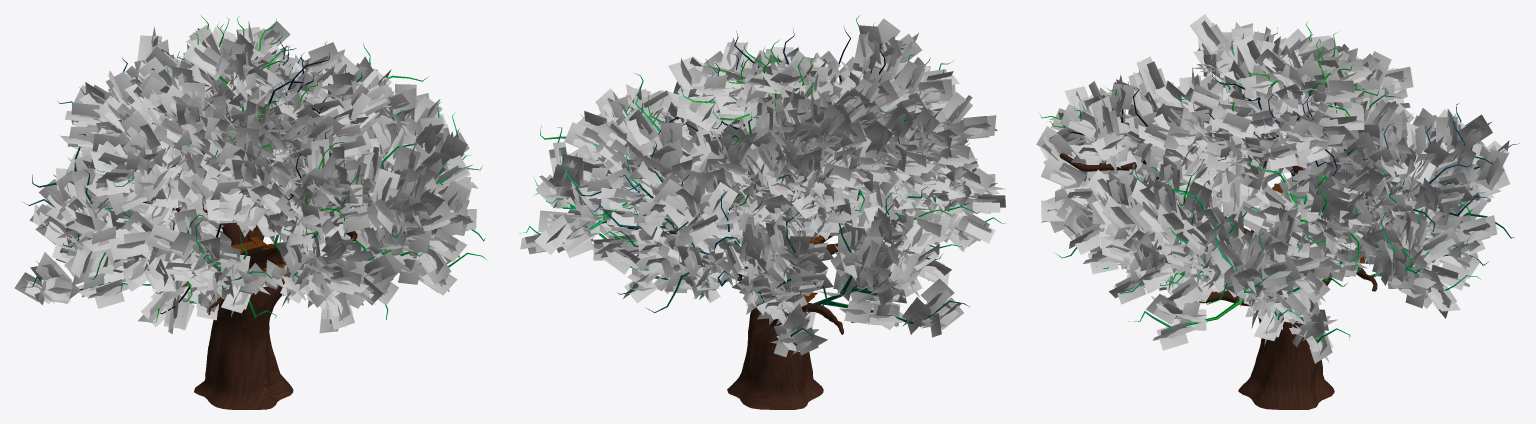
Rendered from tree3Full.fbx.
3 views of the same model, side by side, from view 1: azimuth 30°, elevation 25°; view 2: azimuth 150°, elevation 25°; view 3: azimuth 270°, elevation 25° (orthographic). The views are drawn at different scales.
Visible parts, largest first — view 1: leaves1T004, leaves1T3, trunkT3, leaves5T3, leaves10T3, leaves9T004, leaves10T004, leaves9T3, leaves3.2T3, fluff2, leaves8T3, fluff009 (+25 smaller); view 2: leaves5T3, leaves5T004, leaves4.2T3, leaves6T3, trunkT3, leaves9T3, leaves4.2T004, leaves3.2T004, leaves9T004, leaves3.2T3, leaves10T3, fluff4 (+31 smaller); view 3: leaves2T004, leaves9T004, leaves9T3, leaves1T3, leaves10T3, leaves6T3, leaves2T3, leaves6T005, trunkT3, leaves4.2T004, leaves1T004, leaves7T004 (+25 smaller).
Part boxes in pixels (<box>): leaves1T004: <box>255,184,404,333</box>; leaves1T3: <box>345,154,485,285</box>; trunkT3: <box>194,251,293,409</box>; leaves5T3: <box>14,134,129,308</box>; leaves10T3: <box>275,130,375,265</box>; leaves9T004: <box>189,15,362,126</box>; leaves10T004: <box>138,197,249,333</box>; leaves9T3: <box>182,17,344,112</box>; leaves3.2T3: <box>108,206,232,303</box>; fluff2: <box>202,152,293,243</box>; leaves8T3: <box>90,111,173,209</box>; fluff009: <box>85,133,214,224</box>; leaves5T3: <box>812,203,969,337</box>; leaves5T004: <box>728,194,833,356</box>; leaves4.2T3: <box>657,169,747,288</box>; leaves6T3: <box>519,127,606,257</box>; trunkT3: <box>727,307,823,409</box>; leaves9T3: <box>656,31,815,141</box>; leaves4.2T004: <box>590,109,682,236</box>; leaves3.2T004: <box>849,178,951,298</box>; leaves9T004: <box>678,29,816,138</box>; leaves3.2T3: <box>904,163,1005,231</box>; leaves10T3: <box>838,15,959,84</box>; fluff4: <box>839,120,935,194</box>; leaves2T004: <box>1128,175,1244,350</box>; leaves9T004: <box>1200,32,1363,168</box>; leaves9T3: <box>1240,22,1379,175</box>; leaves1T3: <box>1083,155,1211,304</box>; leaves10T3: <box>1039,74,1152,174</box>; leaves6T3: <box>1370,208,1480,318</box>; leaves2T3: <box>1223,207,1359,363</box>; leaves6T005: <box>1210,223,1306,345</box>; trunkT3: <box>1238,317,1334,409</box>; leaves4.2T004: <box>1369,118,1489,224</box>; leaves1T004: <box>1036,109,1160,258</box>; leaves7T004: <box>1234,155,1363,262</box>.
Size of the model in its own units: 1335 by 1045 by 1306.
